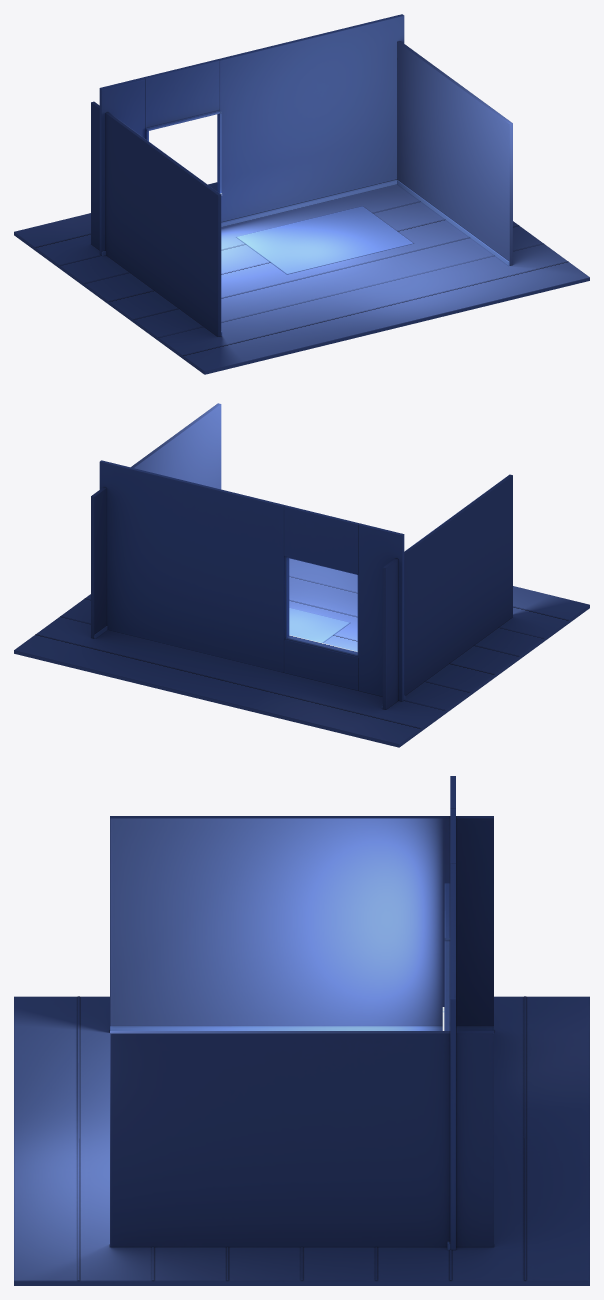
Rendered from room.glb.
The picture shows the model from 3 angles, top to bottom: view 1: azimuth 30°, elevation 25°; view 2: azimuth 150°, elevation 25°; view 3: azimuth 270°, elevation 25°; orthographic projection. The views are drawn at different scales.
Visible parts, largest first — view 1: room; view 2: room; view 3: room.
Boxes of the visible parts, box(x1,y1,x2,y2) form: room: box(14, 14, 589, 374); room: box(14, 403, 589, 747); room: box(14, 776, 589, 1285).
Bounding box in the file's own units: 14 × 5.89 × 12.
6 materials, 6 textured.
